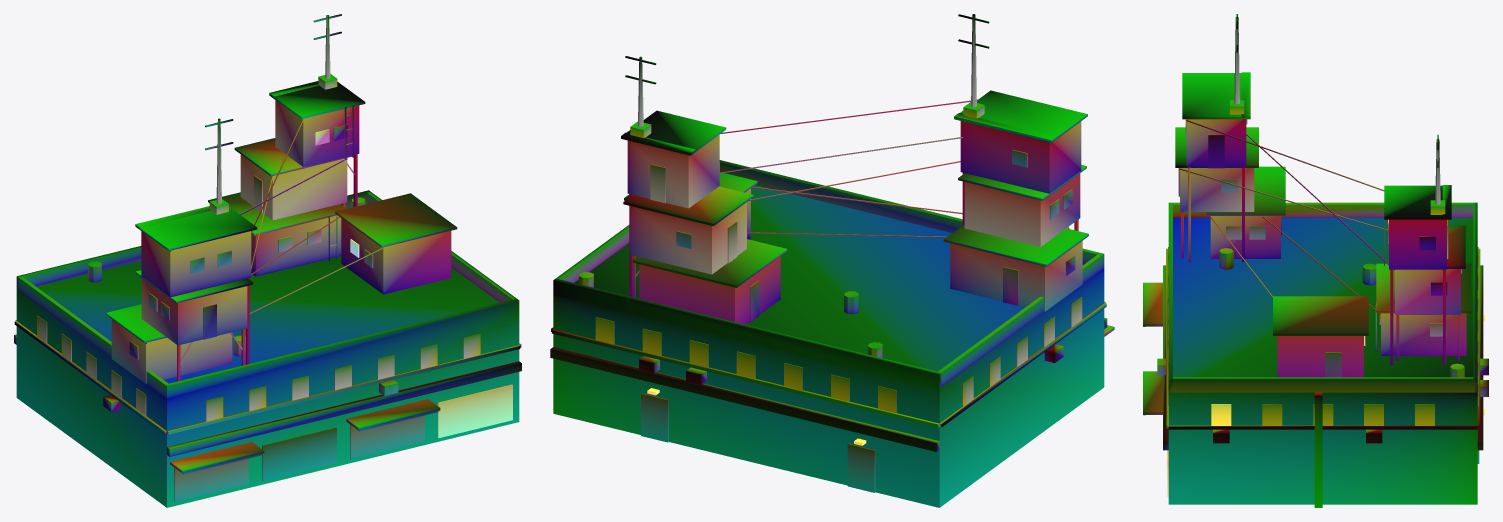
Rendered from Slum_Low.fbx.
3 renders of one model, left to right at view 1: azimuth 30°, elevation 25°; view 2: azimuth 150°, elevation 25°; view 3: azimuth 270°, elevation 25°, orthographic. The views are drawn at different scales.
Parts seen in each view (by area): view 1: Slum_Low_LOD0; view 2: Slum_Low_LOD0; view 3: Slum_Low_LOD0.
Boxes of the visible parts, x1=… form: Slum_Low_LOD0: x1=14, y1=14, x2=521, y2=507; Slum_Low_LOD0: x1=550, y1=14, x2=1114, y2=507; Slum_Low_LOD0: x1=1143, y1=14, x2=1488, y2=507.
Size of what is drawn, in the model's own units: 24.22 by 21.44 by 19.01.
